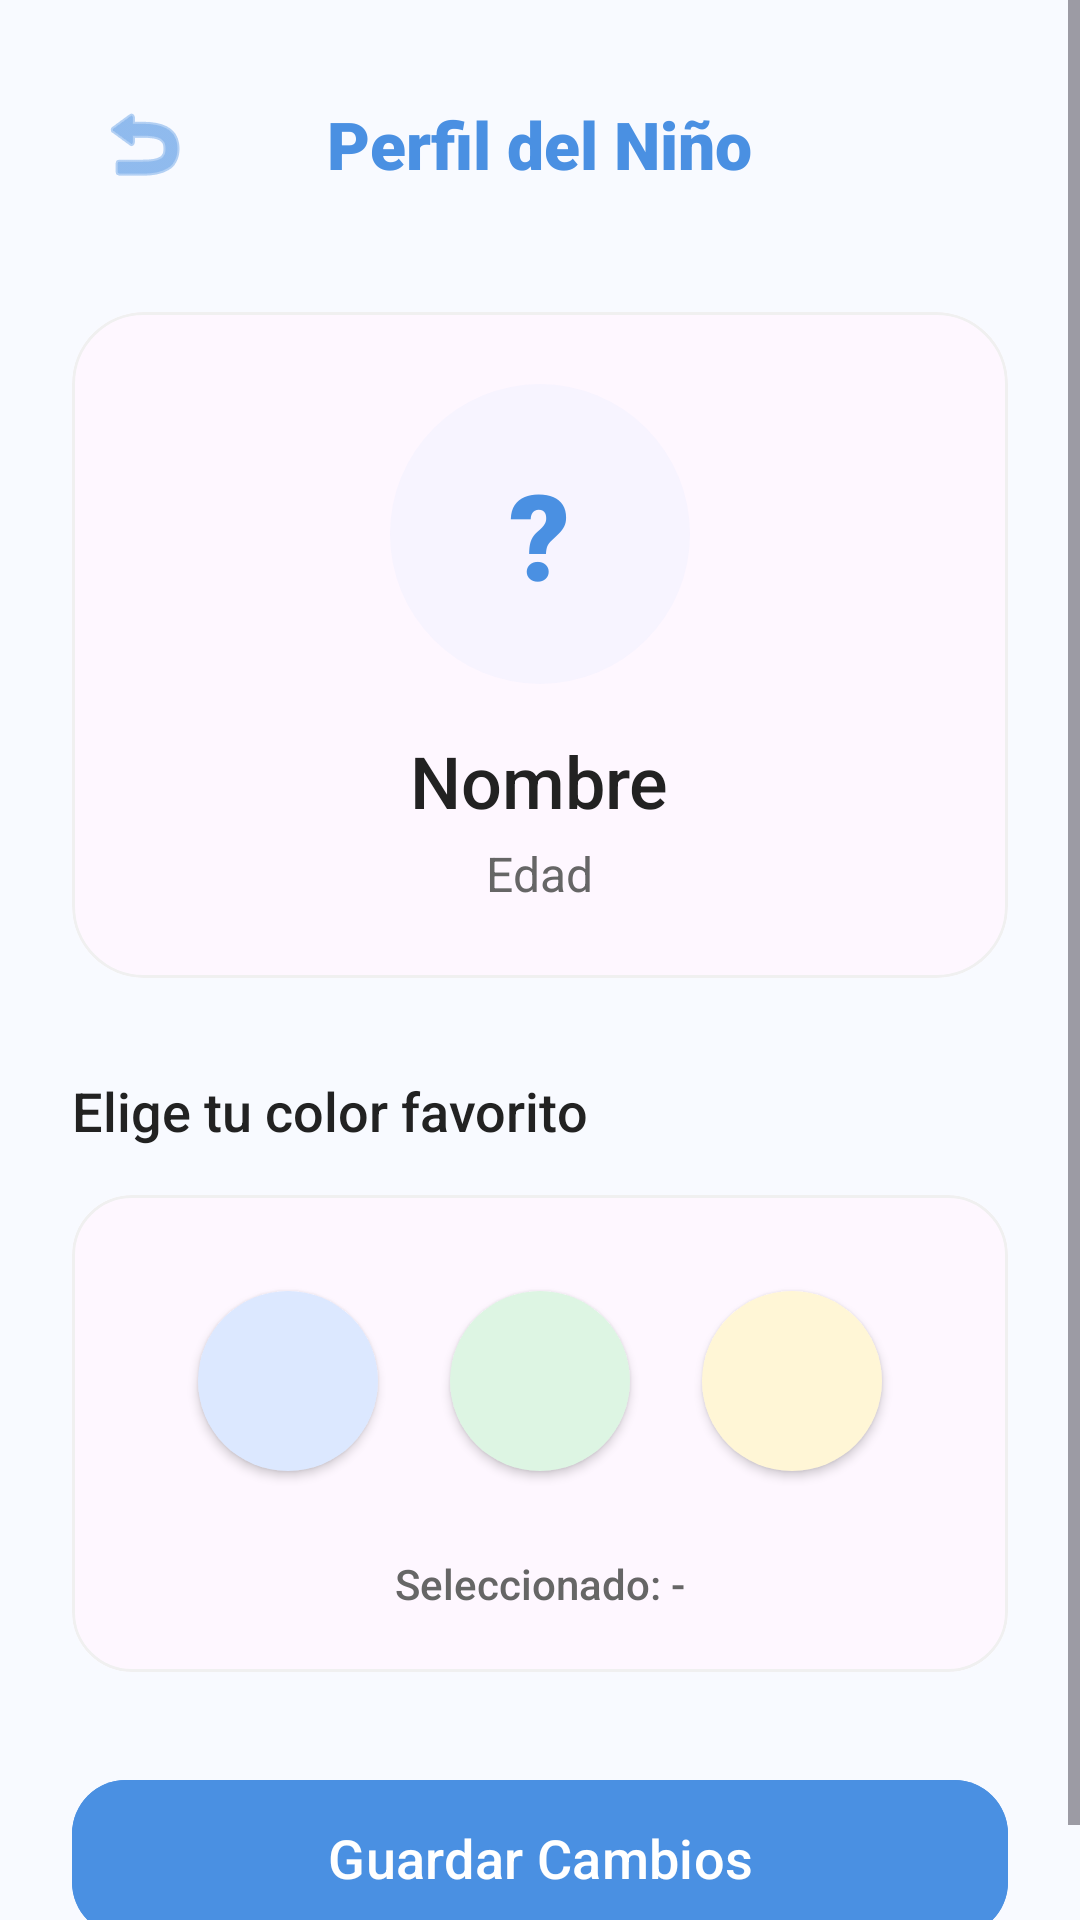

Where to tap for icons on this 1080*1920 app screen, as (x,y):
Regresar: (145,144)
